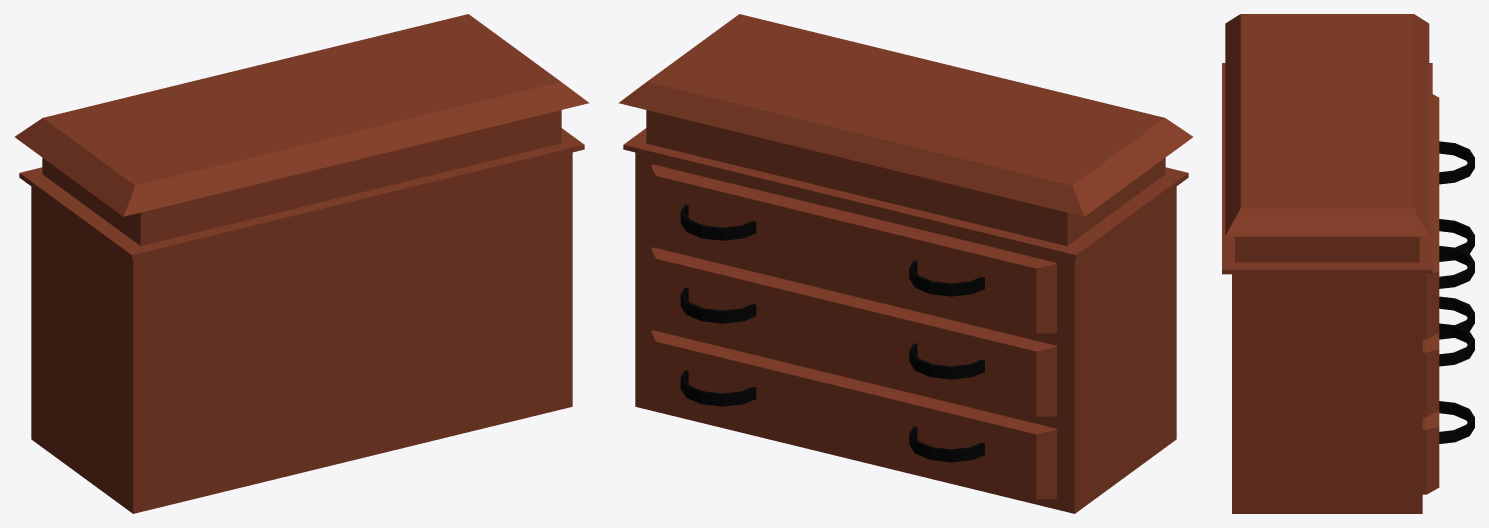
File: Dresser_02.fbx
3 renders of one model, left to right at view 1: azimuth 30°, elevation 25°; view 2: azimuth 150°, elevation 25°; view 3: azimuth 270°, elevation 25°, orthographic. The views are drawn at different scales.
Visible parts, largest first — view 1: Dresser_02; view 2: Dresser_02; view 3: Dresser_02.
Part boxes in pixels (x1=…): Dresser_02: x1=15, y1=14, x2=589, y2=513; Dresser_02: x1=618, y1=14, x2=1192, y2=513; Dresser_02: x1=1222, y1=14, x2=1474, y2=513.
Size of the model in its own units: 350 by 232 by 176.
